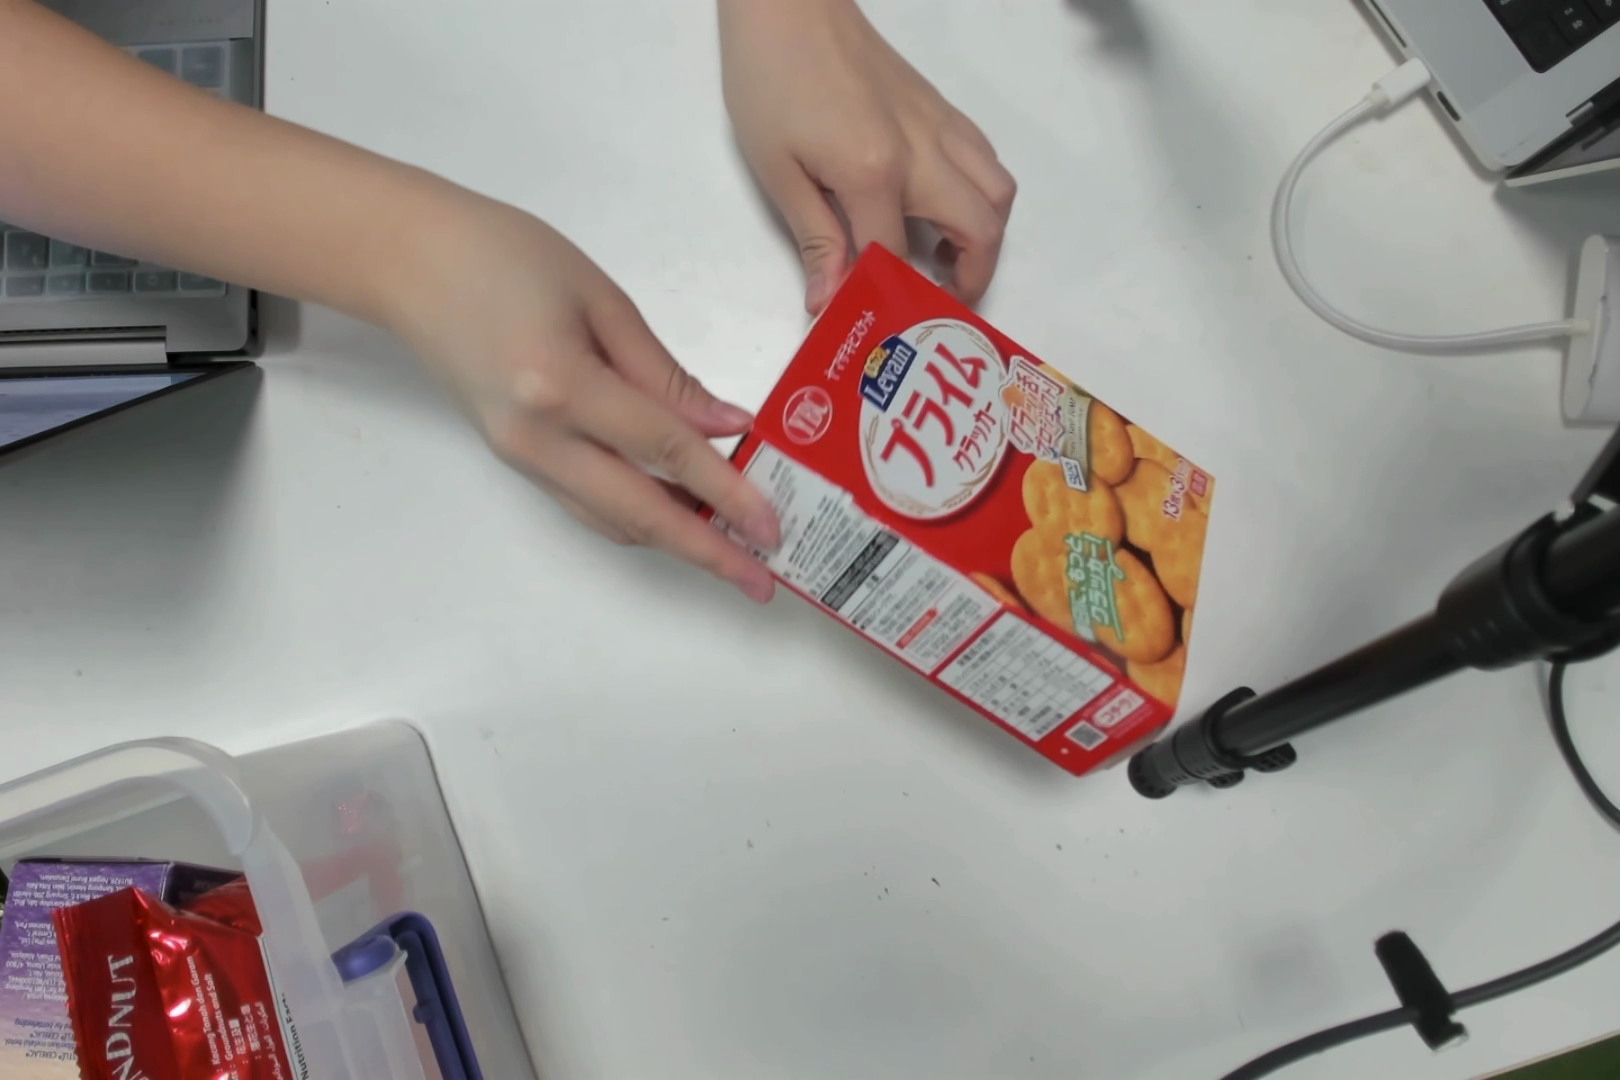c: (755, 295, 1208, 764)
